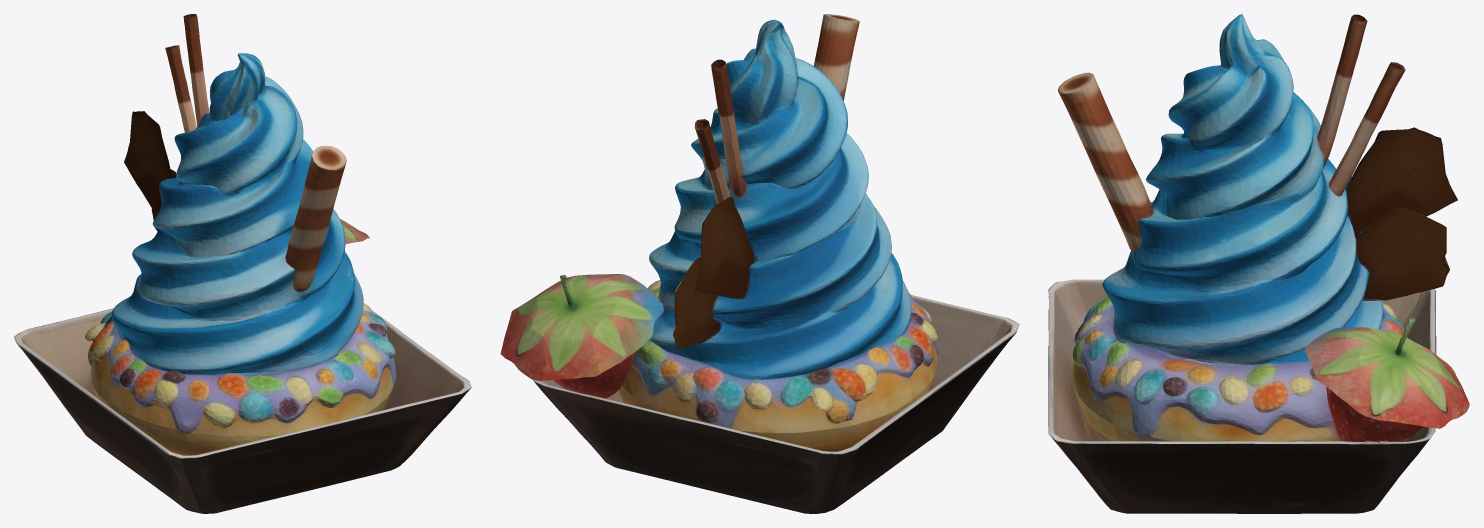
The model's file is ice_cream_source.glb.
3 views of the same model, side by side, from view 1: azimuth 30°, elevation 25°; view 2: azimuth 150°, elevation 25°; view 3: azimuth 270°, elevation 25° (orthographic). The views are drawn at different scales.
Visible parts, largest first — view 1: world; view 2: world; view 3: world.
Part boxes in pixels (x1=…): world: x1=14, y1=14, x2=471, y2=513; world: x1=500, y1=14, x2=1019, y2=513; world: x1=1048, y1=14, x2=1469, y2=513.
Bounding box in the file's own units: 0.8913 × 1 × 0.8683.
1 material, 1 textured.
